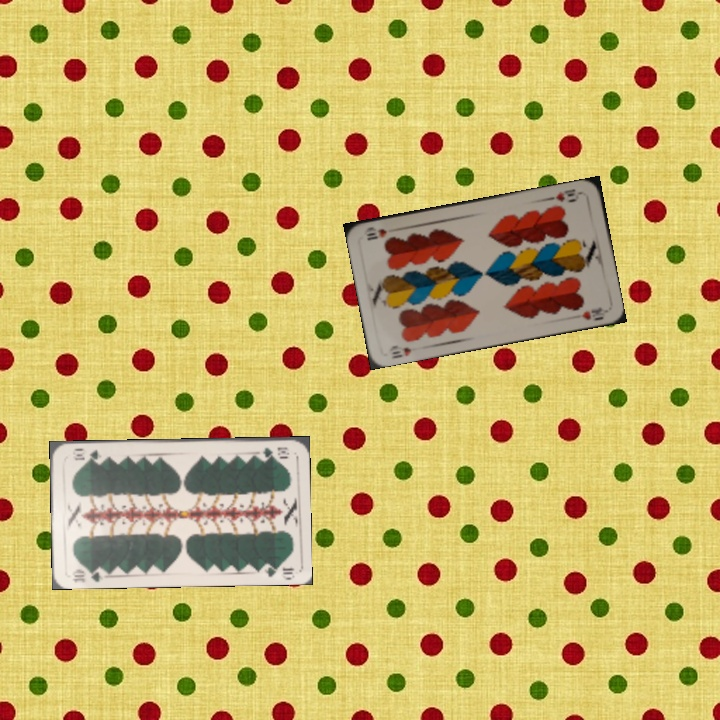G10: (68, 564, 107, 584), (259, 443, 291, 460)
H10: (545, 185, 586, 205), (385, 341, 414, 361)
